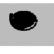correct: (8, 9, 40, 31)
